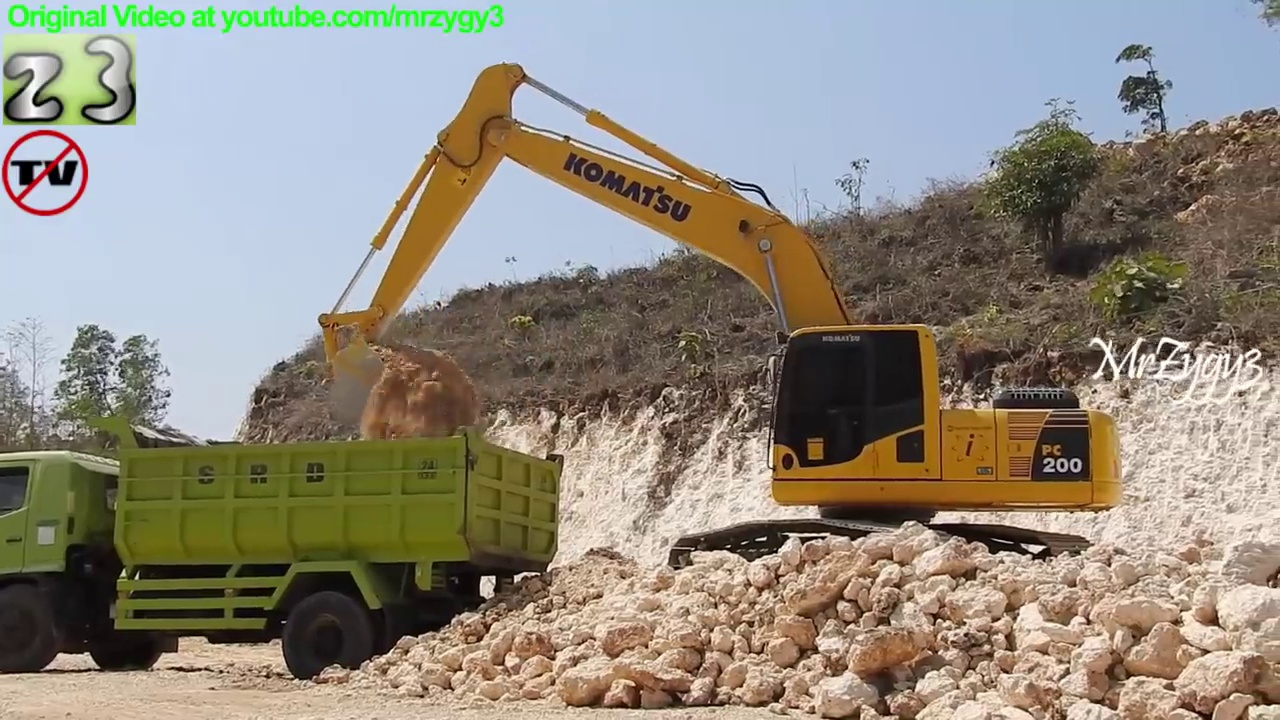excavator: (315, 62, 1130, 596)
truck: (1, 406, 571, 686)
